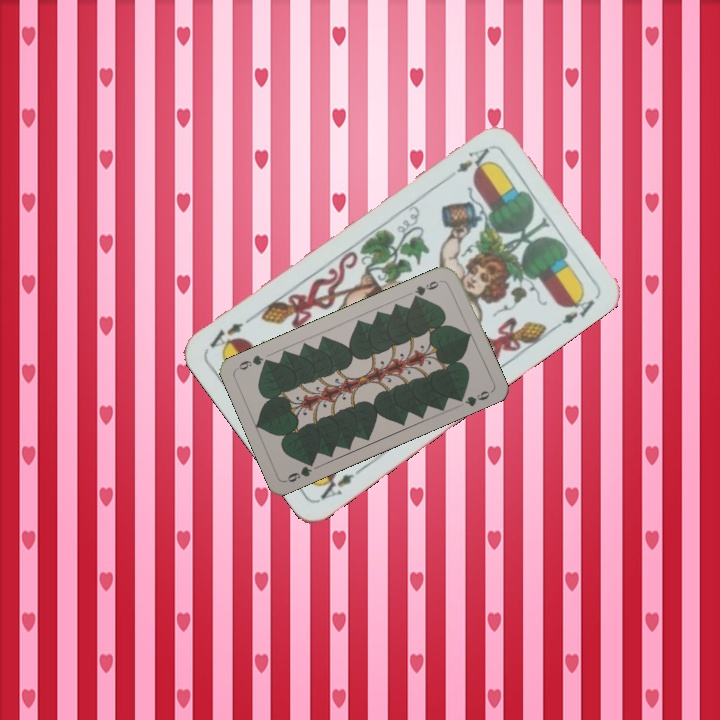EA: (441, 143, 492, 184), (314, 463, 366, 503)
G9: (282, 456, 317, 485), (409, 276, 445, 302)
